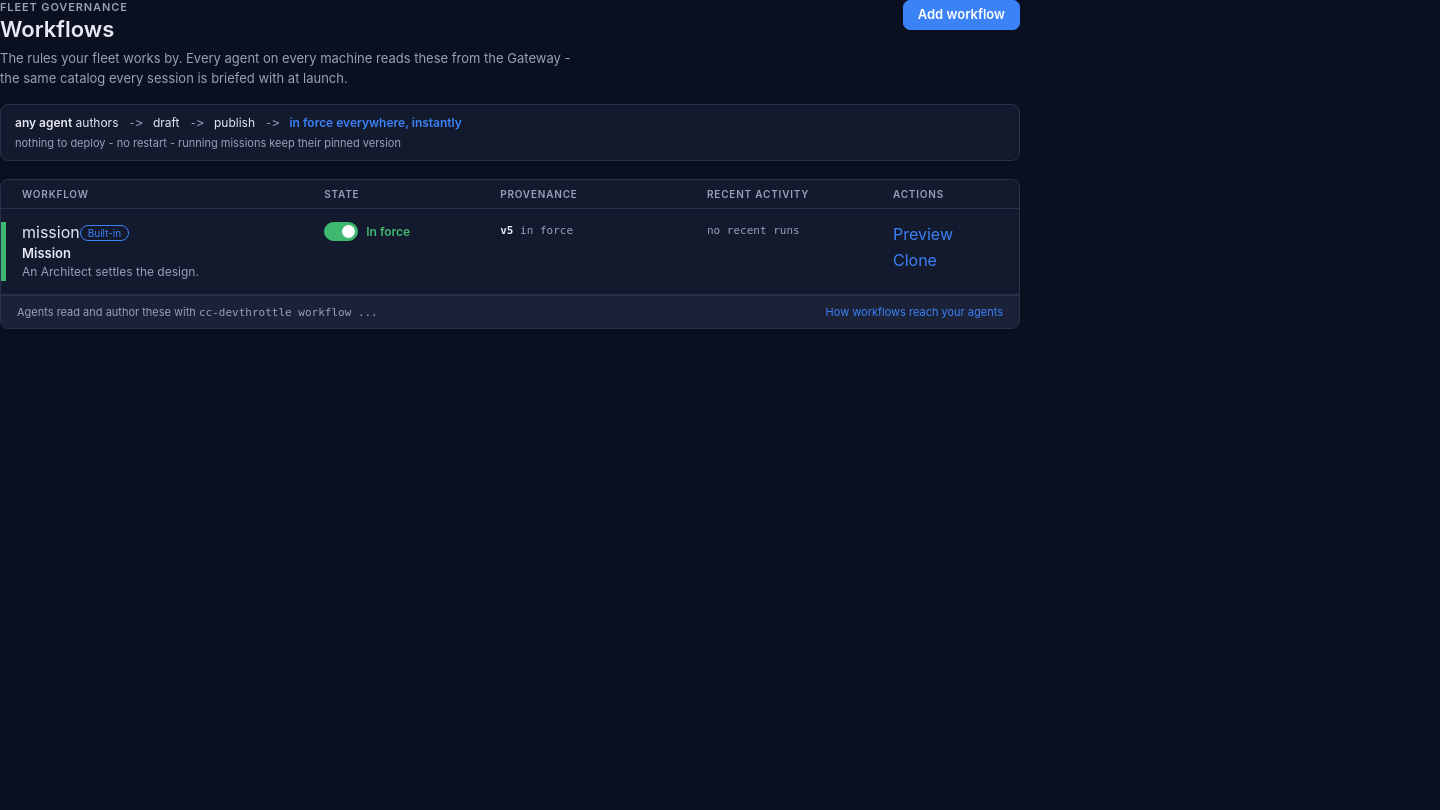
Scenario: WorkflowsView register actions › Preview opens the popup with the fetched conduct, pinned to the row's version
Click the button with aria-label "Preview Mission" at (923, 234), box x1=893 y1=224 x2=953 y2=244
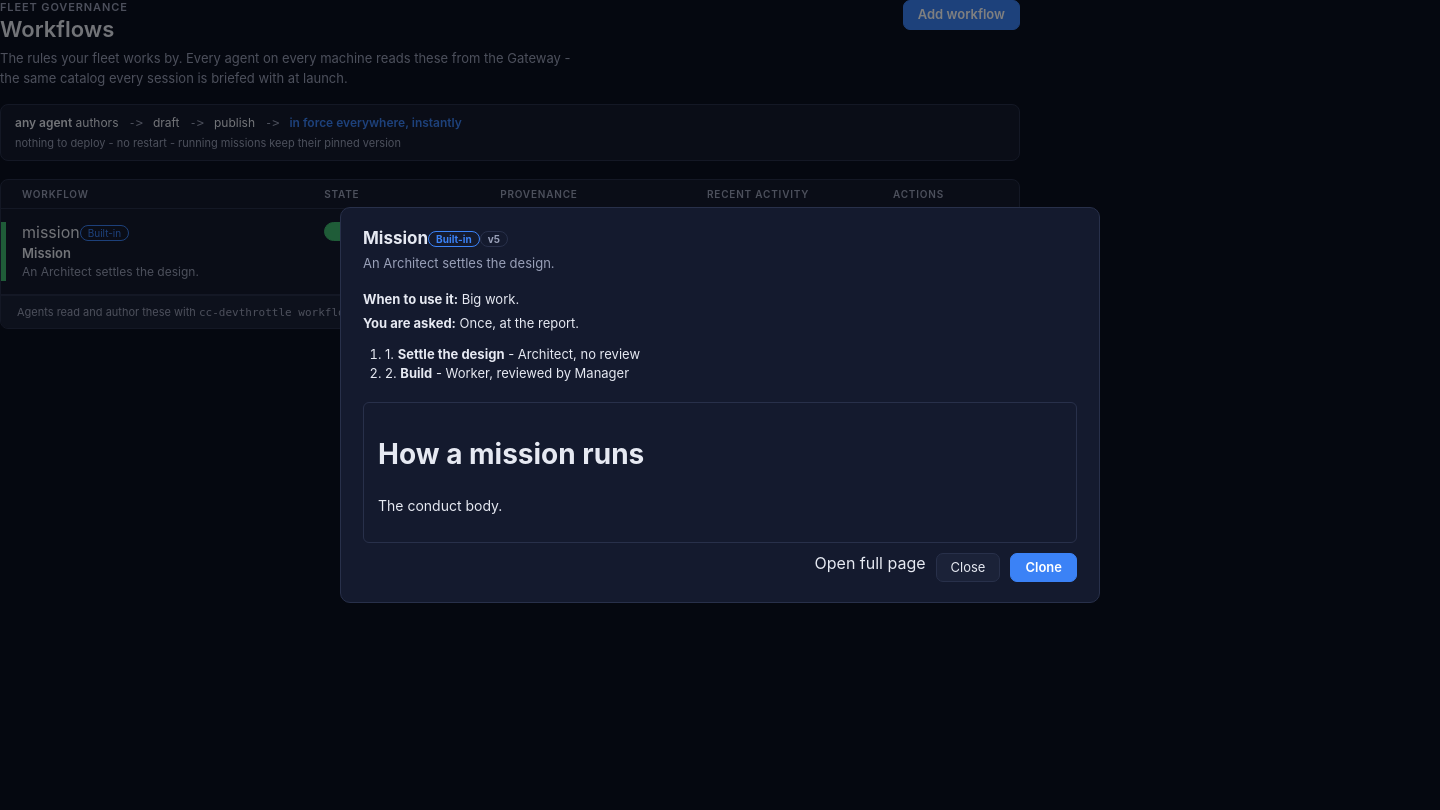
Check: the dialog named "Preview of Mission" is shown, box x1=340 y1=207 x2=1100 y2=603
Check: the text "Settle the design" is shown, box x1=398 y1=346 x2=504 y2=362
Check: the text "You are asked: Once, at the report." is shown, box x1=363 y1=315 x2=579 y2=331
